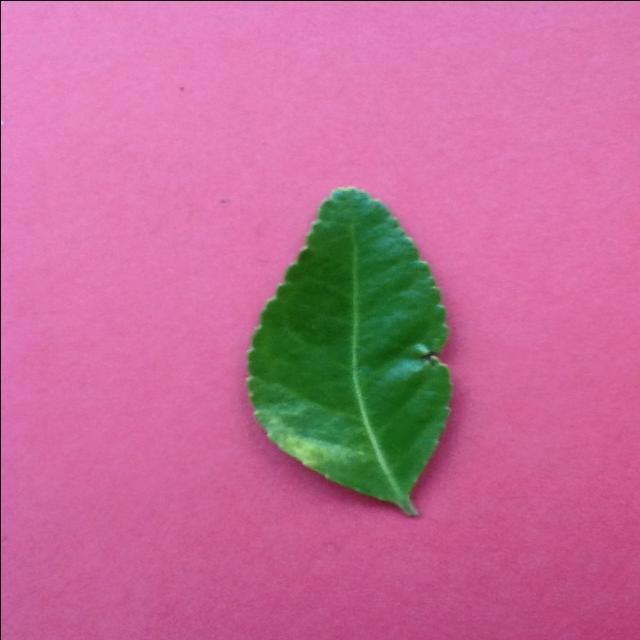foliage: (242, 180, 458, 522)
